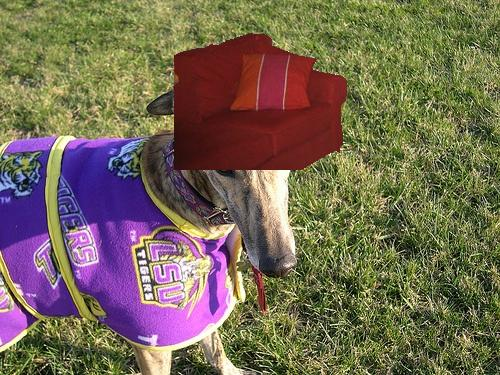tampered: (175, 34, 347, 170)
